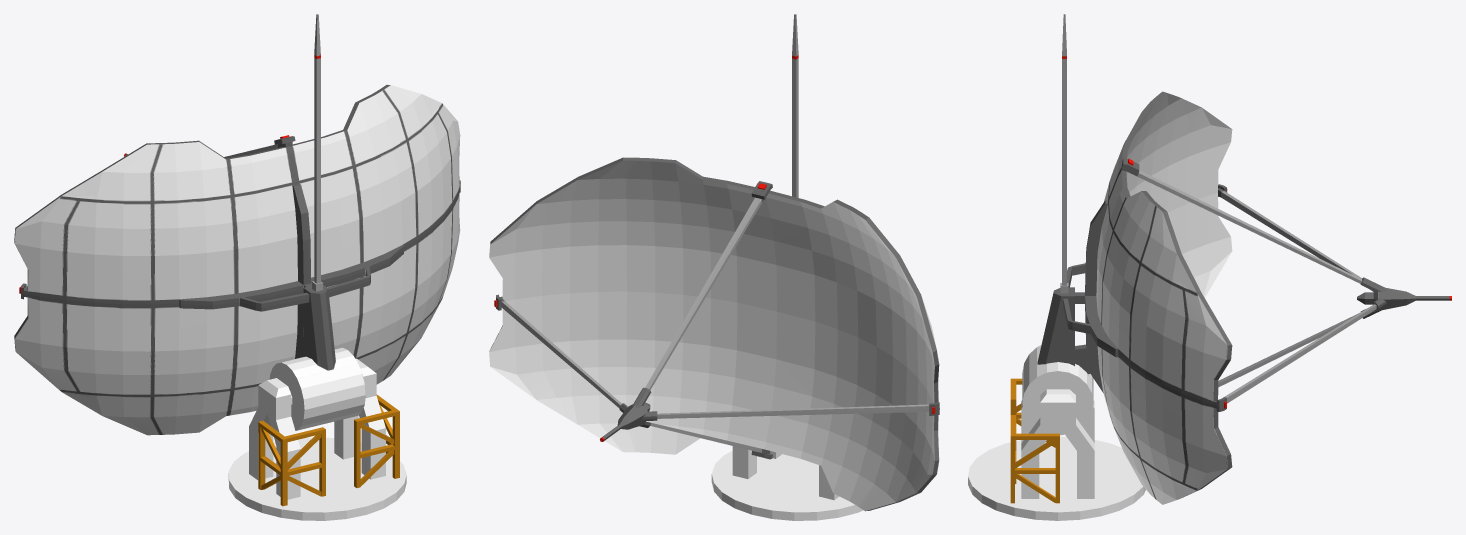
The model's file is Wide_dish.glb.
3 views of the same model, side by side, from view 1: azimuth 30°, elevation 25°; view 2: azimuth 150°, elevation 25°; view 3: azimuth 270°, elevation 25° (orthographic).
Visible parts, largest first — view 1: Engine_=__radar; view 2: Engine_=__radar; view 3: Engine_=__radar.
Boxes of the visible parts, x1,y1,x2,y2 form: Engine_=__radar: (14,14,460,520); Engine_=__radar: (489,14,939,520); Engine_=__radar: (968,14,1451,520).
Bounding box in the file's own units: 2.18 × 2.18 × 2.03.
3 materials, 3 textured.
